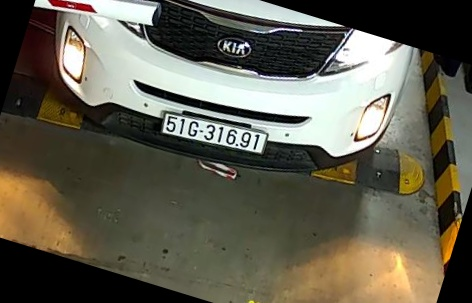plate: (160, 109, 280, 173)
